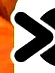menu_arrow: (10, 9, 55, 66)
